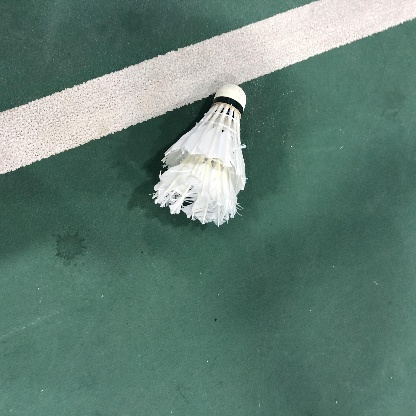ball_single: (152, 84, 246, 226)
